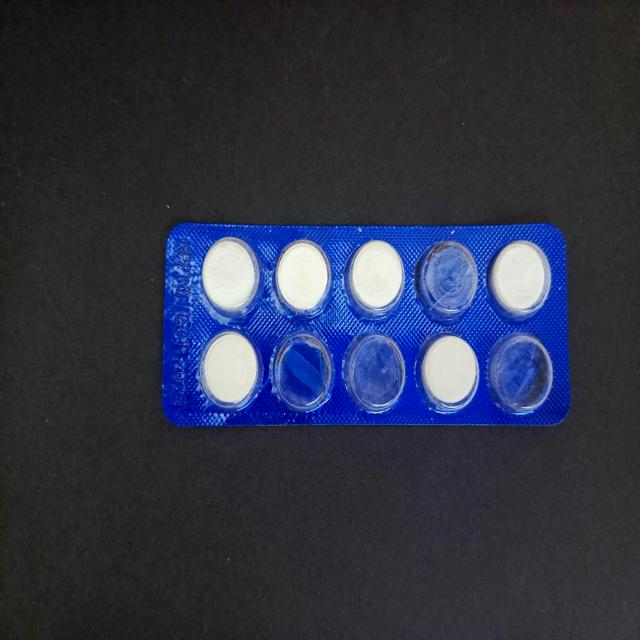defect: (484, 330, 558, 418), (268, 328, 337, 414), (340, 327, 407, 414), (413, 238, 479, 324)
